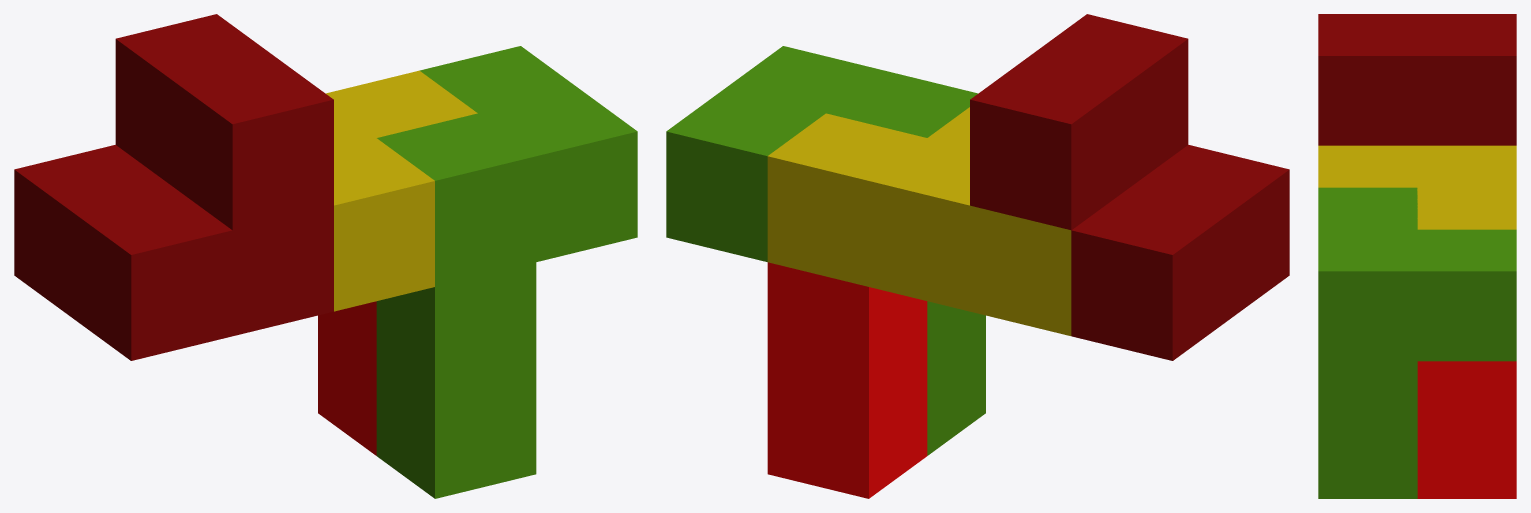
The picture shows the model from 3 angles, left to right: view 1: azimuth 30°, elevation 25°; view 2: azimuth 150°, elevation 25°; view 3: azimuth 270°, elevation 25°; orthographic projection. The views are drawn at different scales.
Visible parts, largest first — view 1: mergedBlocks(Clone); view 2: mergedBlocks(Clone); view 3: mergedBlocks(Clone).
Part boxes in pixels (<box>): mergedBlocks(Clone): <box>14,14,637,498</box>; mergedBlocks(Clone): <box>666,14,1289,498</box>; mergedBlocks(Clone): <box>1318,14,1516,498</box>.
Size of the model in its own units: 5 by 4 by 2.
4 materials, 4 textured.
